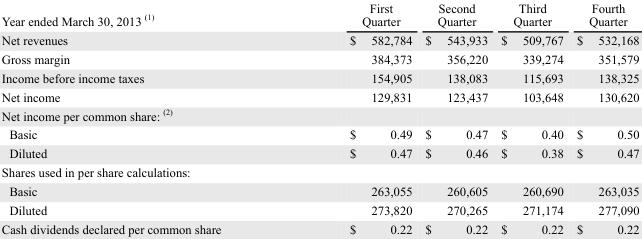table: (0, 1, 638, 235)
table column: (0, 1, 284, 235), (284, 1, 418, 235), (493, 1, 569, 235), (418, 1, 493, 235), (569, 1, 638, 235)
table column header: (0, 1, 638, 30)
table projected row header: (0, 104, 638, 124), (0, 162, 638, 181)
table row: (0, 1, 638, 30), (0, 104, 638, 124), (0, 30, 638, 49), (0, 49, 638, 68), (0, 124, 638, 143), (0, 143, 638, 162), (0, 162, 638, 181), (0, 181, 638, 200), (0, 200, 638, 219), (0, 68, 638, 86), (0, 86, 638, 104), (0, 219, 638, 235)
